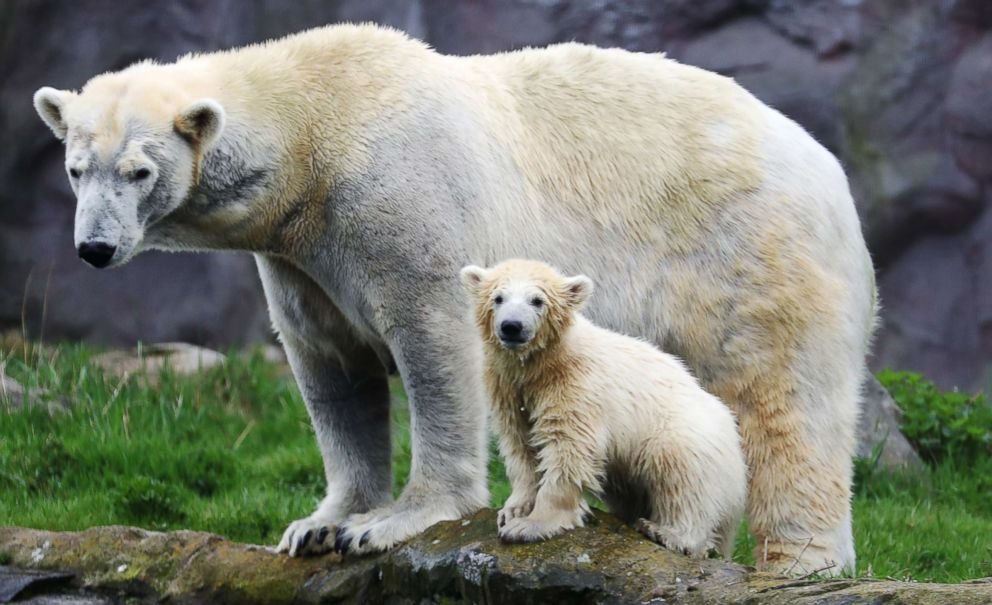Polar Bear: (29, 11, 484, 546), (467, 255, 756, 559)
